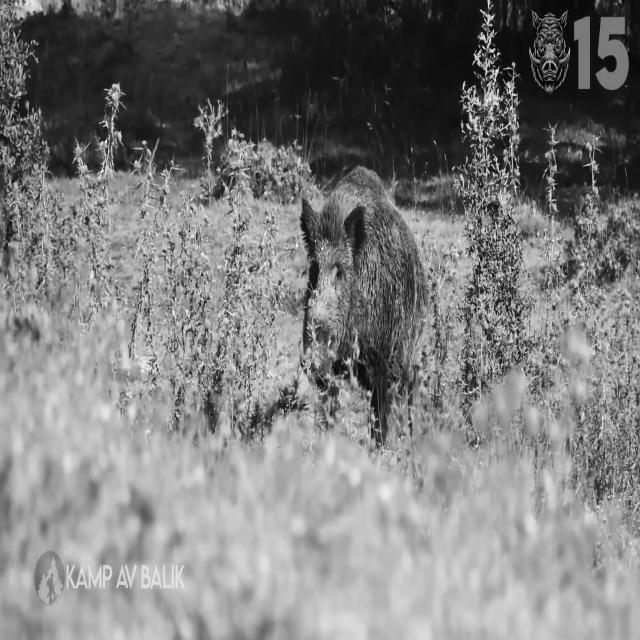boar: (300, 166, 427, 443)
